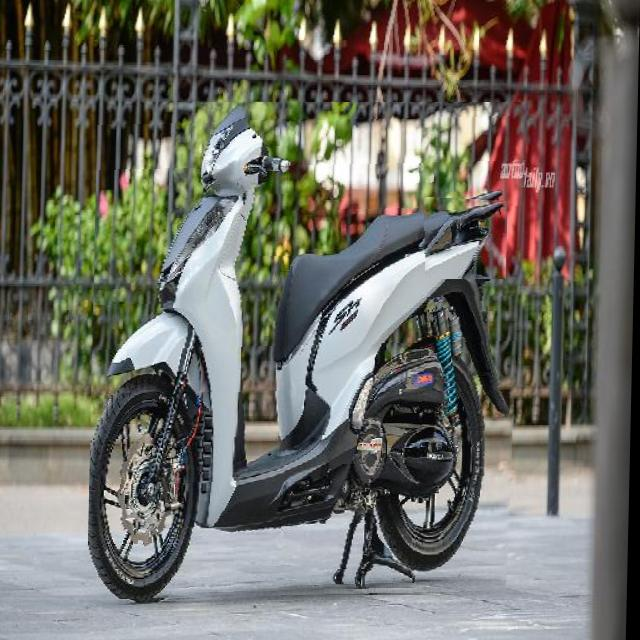All: (90, 102, 528, 600)
Head: (202, 109, 294, 198)
Tail: (423, 198, 508, 280)
